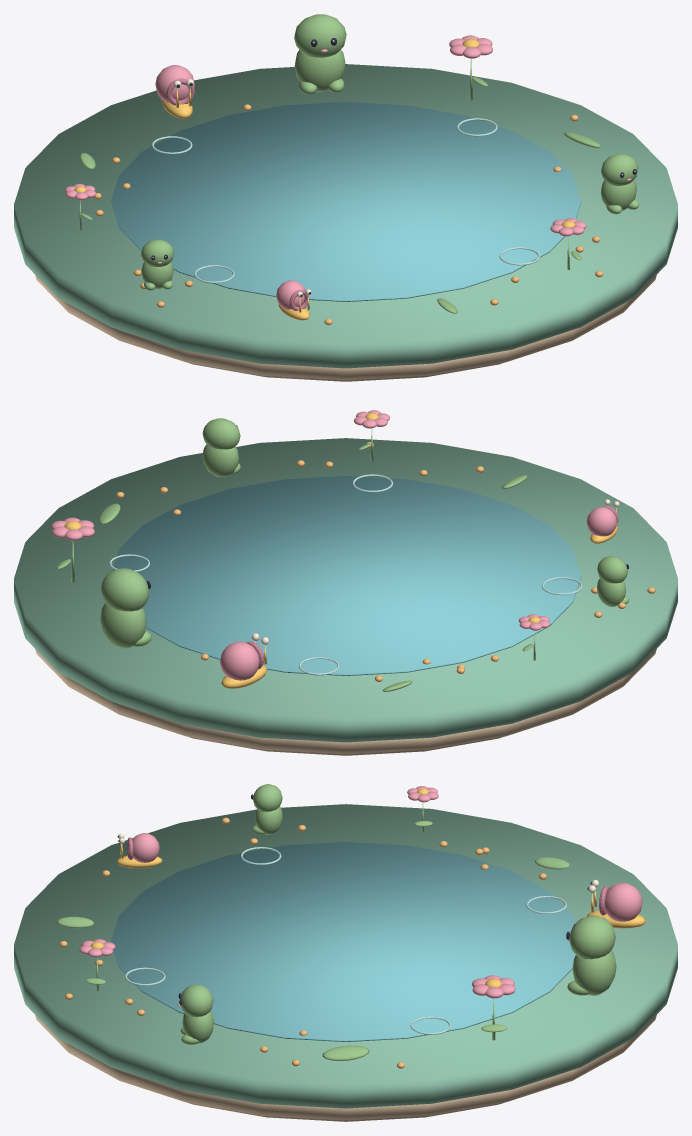
The model's file is world.glb.
3 views of the same model, one above another, from view 1: azimuth 30°, elevation 25°; view 2: azimuth 150°, elevation 25°; view 3: azimuth 270°, elevation 25° (orthographic).
Visible parts, largest first — view 1: Cone, Cone.003, Cone.001, frog.001, frog.003, snail.001, frog.002, snail.002, flower.001, flower.003, Cone.002; view 2: Cone, Cone.003, Cone.001, frog.001, snail.001, frog.003, frog.002, snail.002, flower.001, flower.003, Cone.002, flower.002; view 3: Cone, Cone.003, Cone.001, frog.001, snail.001, frog.003, frog.002, snail.002, flower.001, flower.003, leaf.001, Cone.002 (+1 smaller).
Boxes of the visible parts, x1,y1,x2,y2 form: Cone: (14, 64, 677, 368); Cone.003: (110, 102, 581, 301); Cone.001: (35, 275, 656, 380); frog.001: (294, 14, 346, 94); frog.003: (600, 153, 638, 214); snail.001: (155, 65, 194, 118); frog.002: (141, 239, 174, 290); snail.002: (276, 280, 311, 320); flower.001: (449, 35, 492, 100); flower.003: (550, 218, 586, 269); Cone.002: (188, 362, 503, 381); Cone: (14, 438, 677, 742); Cone.003: (112, 476, 581, 675); Cone.001: (35, 649, 656, 754); frog.001: (100, 568, 151, 648); snail.001: (220, 633, 269, 688); frog.003: (202, 418, 240, 477); frog.002: (597, 556, 629, 606); snail.002: (586, 499, 619, 543); flower.001: (51, 517, 94, 582); flower.003: (354, 410, 389, 461); Cone.002: (188, 736, 503, 755); flower.002: (518, 614, 550, 660); Cone: (14, 804, 677, 1108); Cone.003: (111, 842, 575, 1041); Cone.001: (35, 1015, 656, 1120); frog.001: (566, 915, 616, 995); snail.001: (587, 879, 645, 928); frog.003: (177, 984, 213, 1044); frog.002: (251, 784, 282, 834); snail.002: (116, 833, 162, 868); flower.001: (471, 975, 515, 1040); flower.003: (79, 939, 115, 990); leaf.001: (322, 1045, 369, 1060); Cone.002: (189, 1103, 502, 1121).
Size of the model in its own units: 9.6 by 1.95 by 9.6.
